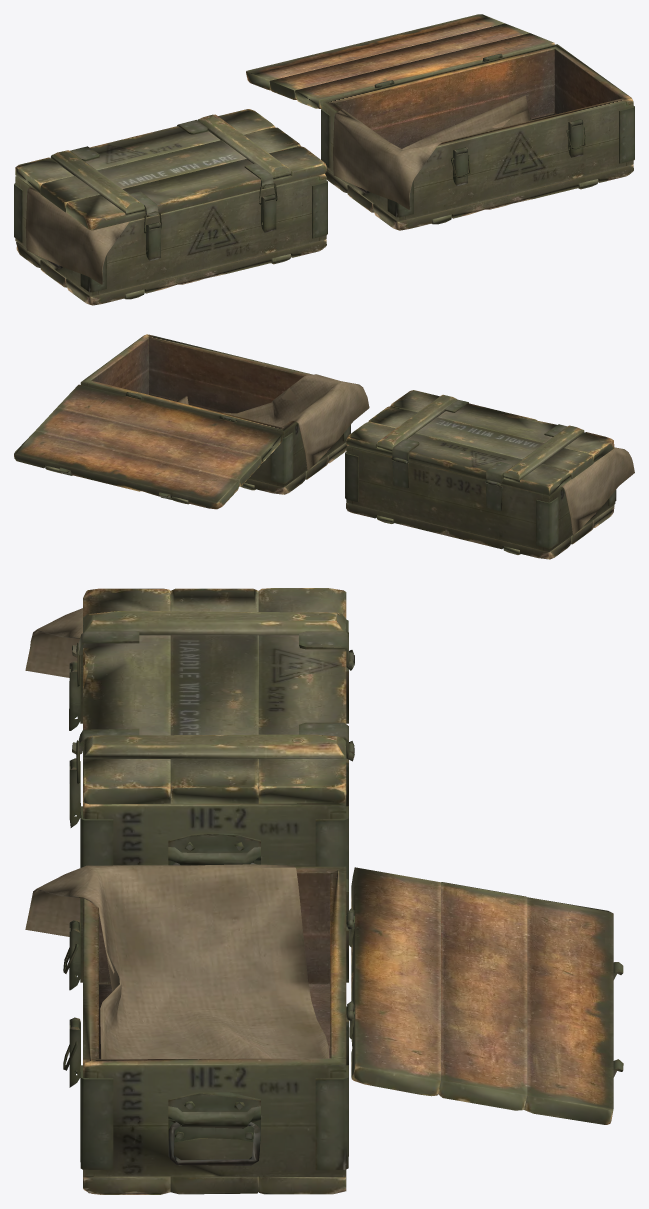
File: ph_milcrate.glb
3 views of the same model, one above another, from view 1: azimuth 30°, elevation 25°; view 2: azimuth 150°, elevation 25°; view 3: azimuth 270°, elevation 25° (orthographic). The views are drawn at different scales.
Visible parts, largest first — view 1: old_military_crate_lid_a; view 2: old_military_crate_lid_a; view 3: old_military_crate_lid_a.
Part boxes in pixels (x1,y1,x2,y2): old_military_crate_lid_a: (14,14,634,305); old_military_crate_lid_a: (14,334,634,559); old_military_crate_lid_a: (25,588,623,1194).
Bounding box in the file's own units: 1.81 × 0.3009 × 0.9758.
Materials: 1 (1 with a texture image).
